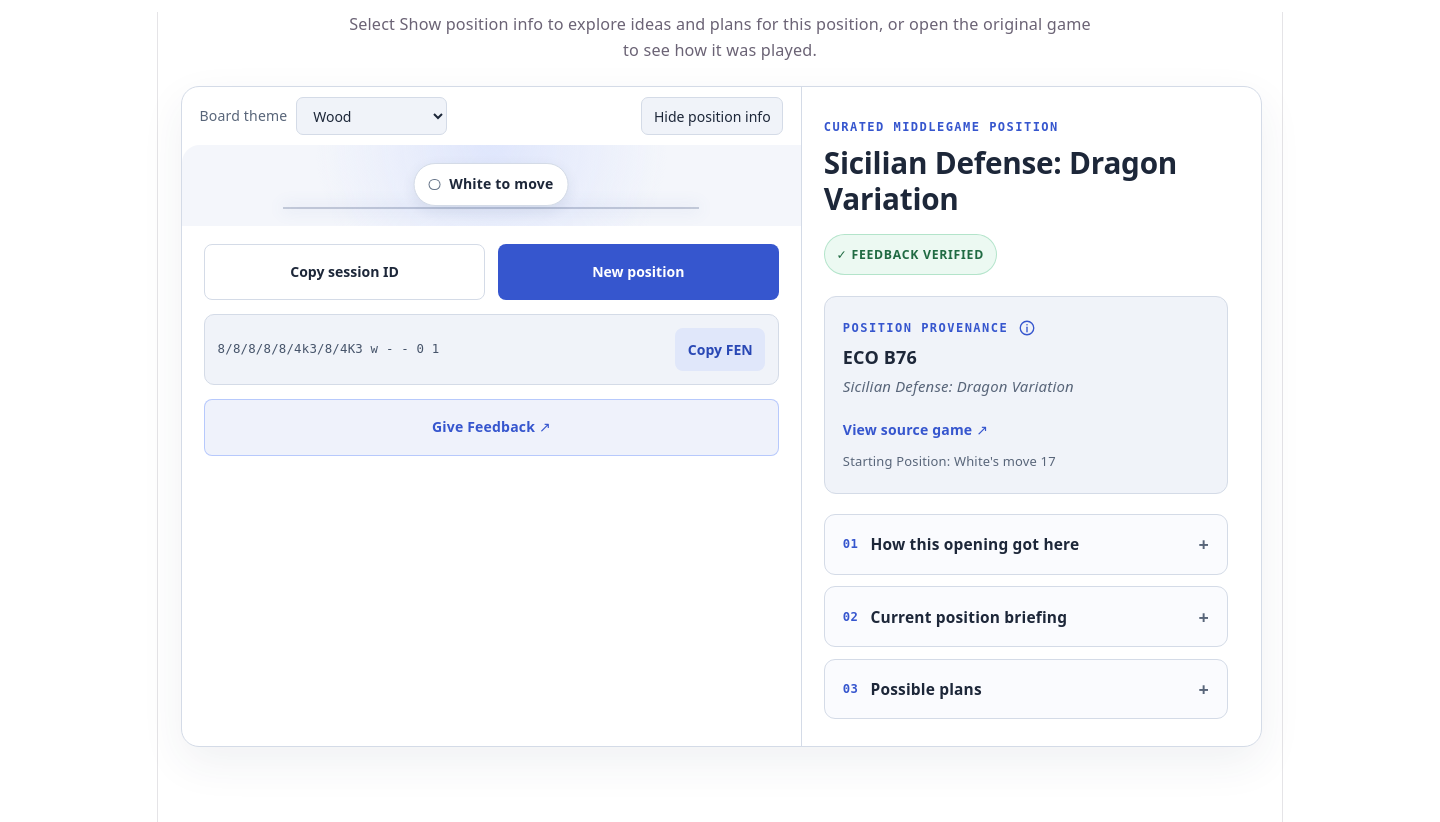
Scenario: keeps the three guidance levels collapsed until requested
This screenshot has width=1440, height=822.
Expected: the text "ECO B76" is shown, [843,345,917,369]
Expected: the text "Both sides are fighting around the center." is not shown
Click the heading "02 Current position briefing +": (1026, 617) [843,605,1209,629]
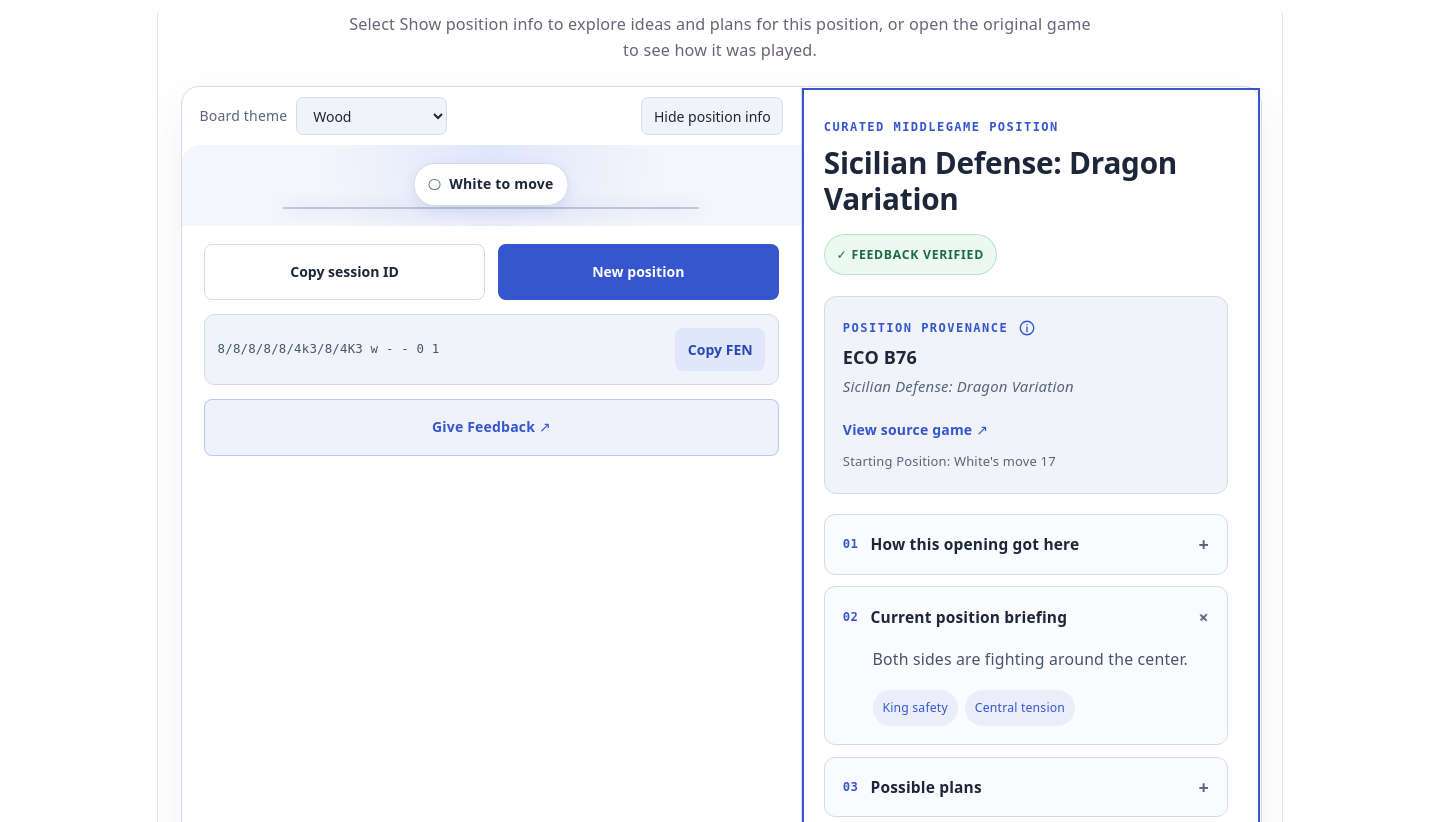
Expected: the text "Both sides are fighting around the center." is shown, [872,648,1188,670]
Expected: the text "King safety" is shown, [872,690,958,726]
